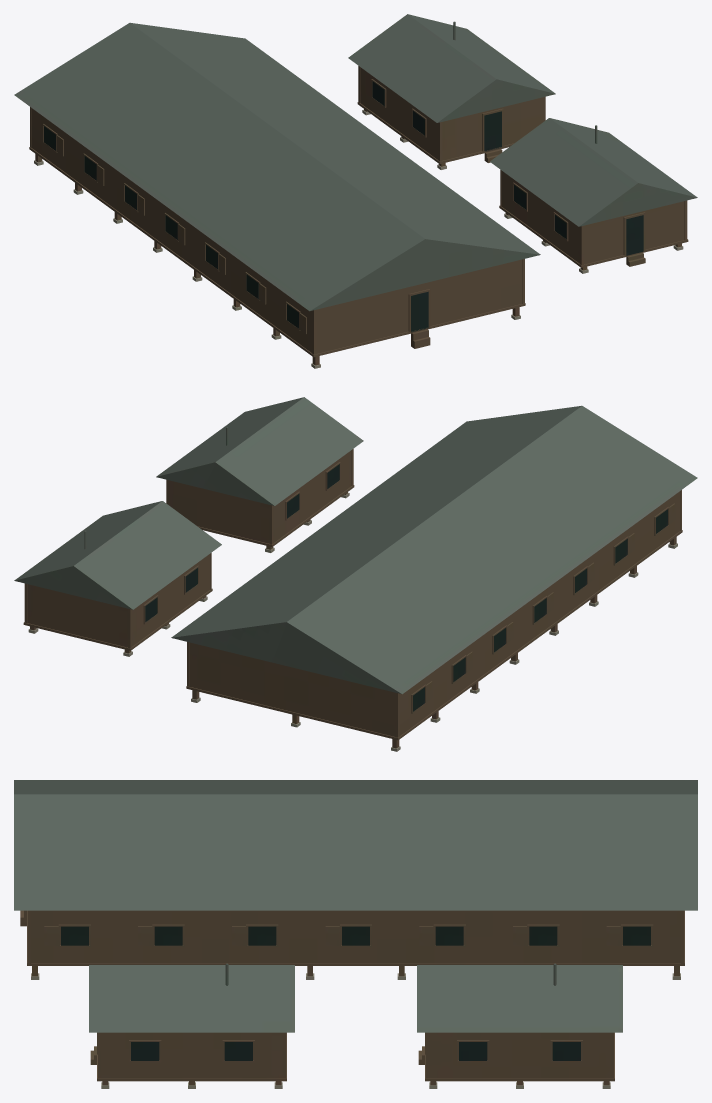
The model's file is barracks-and-huts.glb.
3 renders of one model, top to bottom at view 1: azimuth 30°, elevation 25°; view 2: azimuth 150°, elevation 25°; view 3: azimuth 270°, elevation 25°, orthographic. The views are drawn at different scales.
Parts seen in each view (by area): view 1: barracks-and-huts_concrete; view 2: barracks-and-huts_concrete; view 3: barracks-and-huts_concrete.
Part boxes in pixels (x1,y1,x2,y2): barracks-and-huts_concrete: [14, 14, 697, 368]; barracks-and-huts_concrete: [14, 397, 697, 751]; barracks-and-huts_concrete: [14, 780, 697, 1088].
Size of the model in its own units: 24 by 6 by 29.2.
Materials: 1 (1 with a texture image).
